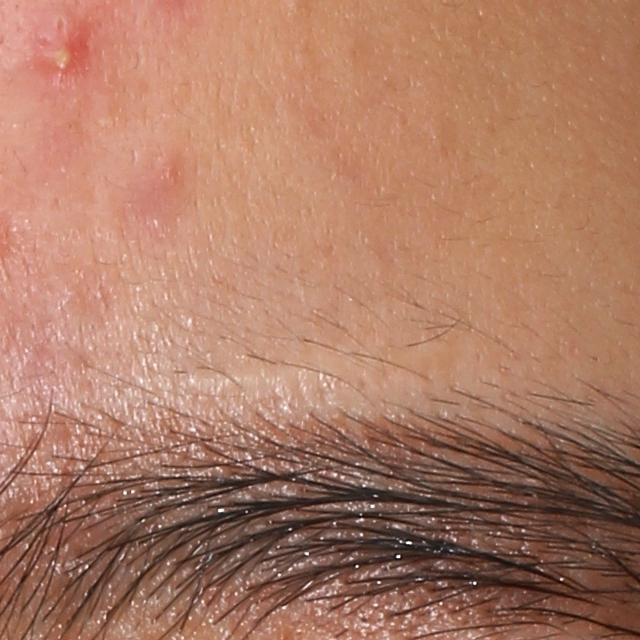pustule: (39, 25, 84, 74)
